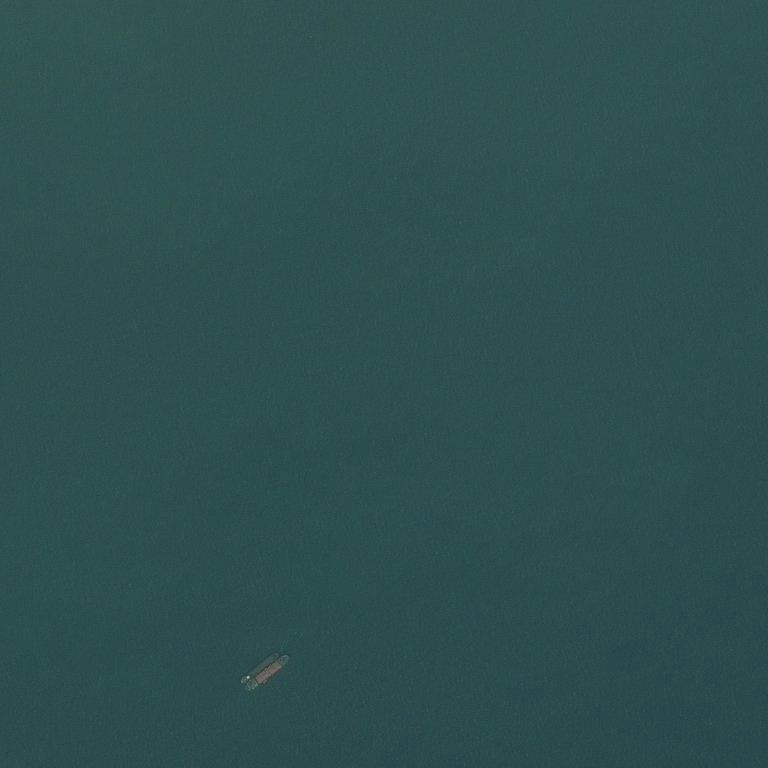ship: (236, 648, 292, 697), (287, 655, 290, 657), (245, 686, 246, 686), (18, 689, 20, 689)
